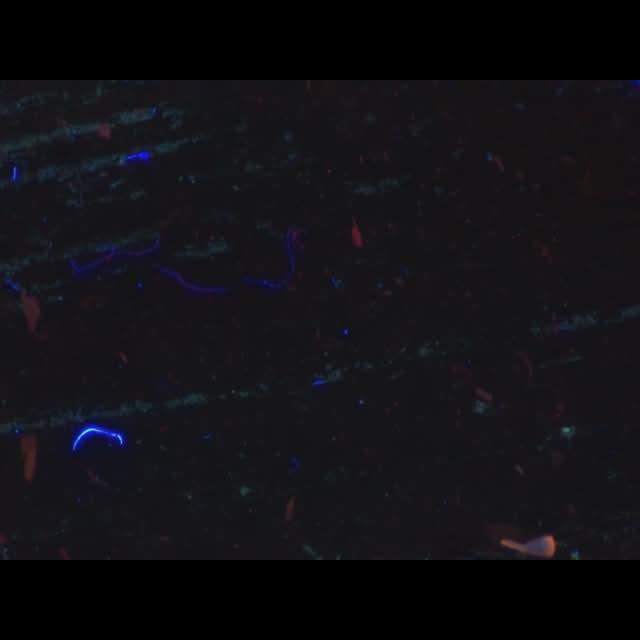Fragment: (20, 434, 38, 482)
